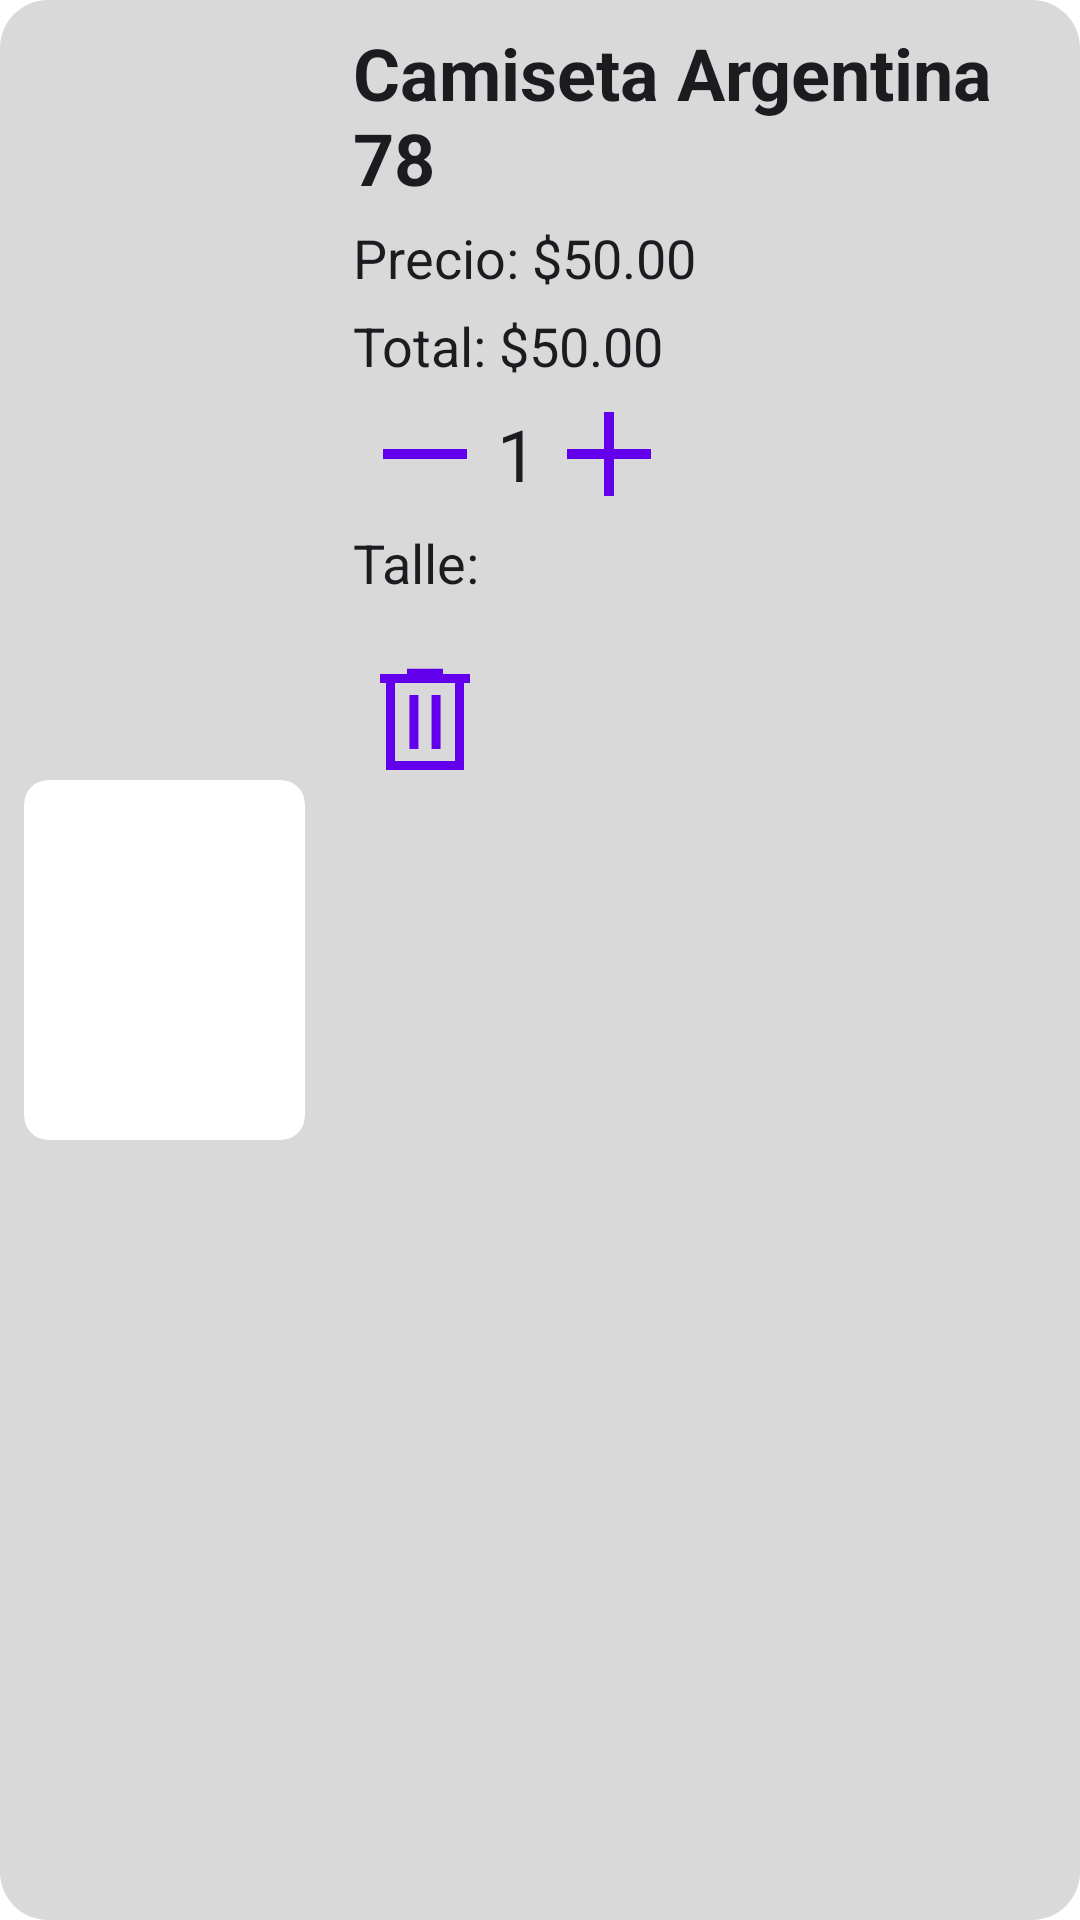

Icons on this 1080 x 1920 Android screen, each with its box as (x1, y1, x2, y2):
Eliminar producto: (380, 668, 470, 770)
